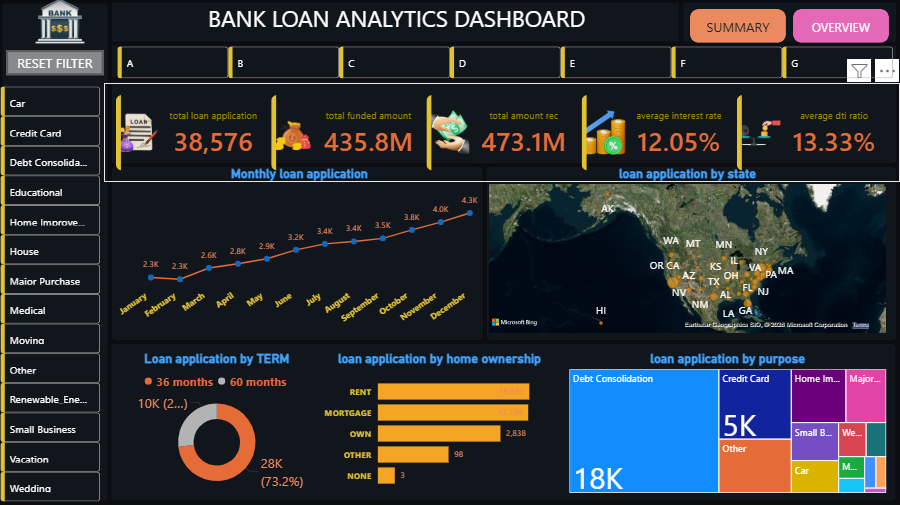

Layout of this report page (visuals, bound fields, positions):
{"tool":"powerbi","page":{"name":"OVERVIEW","canvas":[1280,720],"ordinal":1},"visuals":[{"type":"cardVisual","fields":{"Data":["financial_loan.total loan application","financial_loan.total funded amount","financial_loan.total amount received","financial_loan.average interest rate","financial_loan.average dti rate"]},"box":[151.4,118.6,1128.6,141.4],"z":0},{"type":"image","box":[12.9,0,152.9,62.9],"z":1000},{"type":"advancedSlicerVisual","fields":{"Values":["financial_loan.PURPOSE"]},"box":[0,118.6,151.4,601.4],"z":2000},{"type":"advancedSlicerVisual","fields":{"Values":["financial_loan.GRADE"]},"box":[165.7,62.9,1114.3,55.7],"z":3000},{"type":"actionButton","box":[12.9,72.9,138.6,35.7],"z":4000},{"type":"textbox","box":[195.7,0,741.4,62.9],"z":5000},{"type":"pageNavigator","box":[982.9,14.3,282.9,48.6],"z":6000},{"type":"lineChart","title":"Monthly loan application","fields":{"Category":["financial_loan.ISSUE_DATE.Variation.Date Hierarchy.Month"],"Y":["financial_loan.total loan application"]},"box":[165.7,237.1,525.7,241.4],"z":7000},{"type":"donutChart","title":"Loan application by TERM","fields":{"Category":["financial_loan.TERM"],"Y":["financial_loan.total loan application"]},"box":[165.7,498.6,291.4,205.7],"z":8000},{"type":"clusteredBarChart","title":" loan application by home ownership","fields":{"Category":["financial_loan.HOME_OWNERSHIP"],"Y":["financial_loan.total loan application"]},"box":[457.1,498.6,338.6,205.7],"z":9000},{"type":"treemap","title":" loan application by purpose","fields":{"Group":["financial_loan.PURPOSE"],"Values":["financial_loan.total loan application"]},"box":[807.1,498.6,458.6,205.7],"z":10000},{"type":"map","title":"loan application by state","fields":{"Category":["financial_loan.ADDRESS_STATE"],"Size":["financial_loan.total loan application"]},"box":[691.4,237.1,574.3,241.4],"z":11000}]}

Visuals, with their boxes in screenshot pixels (x1, y1, x2, y2), scaled from the page's 1280x720 canvas onto the 900x506 screenshot:
cardVisual - financial_loan.total loan application x financial_loan.total funded amount: select_region(106, 83, 899, 183)
image: select_region(9, 0, 117, 44)
advancedSlicerVisual - financial_loan.PURPOSE: select_region(0, 83, 106, 505)
advancedSlicerVisual - financial_loan.GRADE: select_region(117, 44, 899, 83)
actionButton: select_region(9, 51, 107, 76)
textbox: select_region(138, 0, 659, 44)
pageNavigator: select_region(691, 10, 890, 44)
"Monthly loan application" lineChart: select_region(117, 167, 486, 336)
"Loan application by TERM" donutChart: select_region(117, 350, 321, 495)
" loan application by home ownership" clusteredBarChart: select_region(321, 350, 559, 495)
" loan application by purpose" treemap: select_region(567, 350, 890, 495)
"loan application by state" map: select_region(486, 167, 890, 336)
